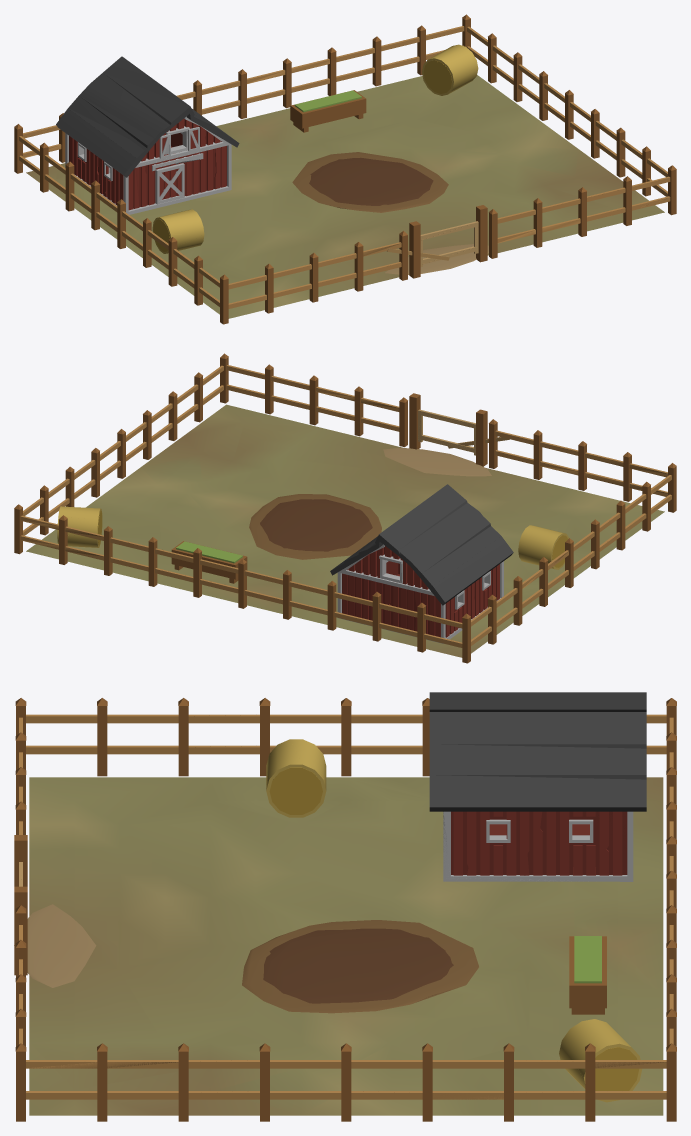
Rendered from pig_pen-g1.glb.
3 views of the same model, one above another, from view 1: azimuth 30°, elevation 25°; view 2: azimuth 150°, elevation 25°; view 3: azimuth 270°, elevation 25° (orthographic). The views are drawn at different scales.
Parts seen in each view (by area): view 1: home-pig_pen-g1, home-pig_pen-g1-far; view 2: home-pig_pen-g1, home-pig_pen-g1-far; view 3: home-pig_pen-g1, home-pig_pen-g1-far.
Boxes of the visible parts, bbox=[...] form: home-pig_pen-g1: bbox=[14, 18, 676, 324]; home-pig_pen-g1-far: bbox=[14, 14, 672, 322]; home-pig_pen-g1: bbox=[14, 353, 674, 663]; home-pig_pen-g1-far: bbox=[18, 353, 676, 662]; home-pig_pen-g1: bbox=[14, 692, 676, 1121]; home-pig_pen-g1-far: bbox=[14, 698, 676, 1121].
Size of the model in its own units: 9.93 by 2.09 by 7.95.
